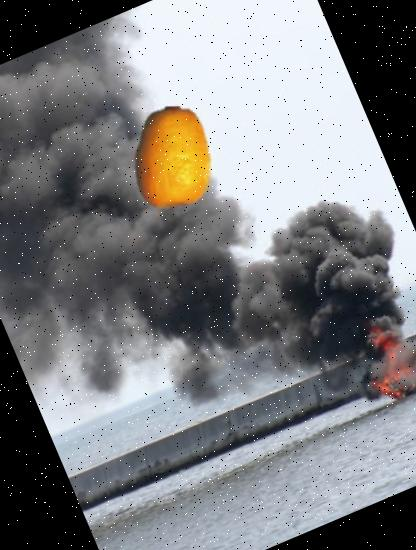Kumquats: (106, 90, 240, 226)
